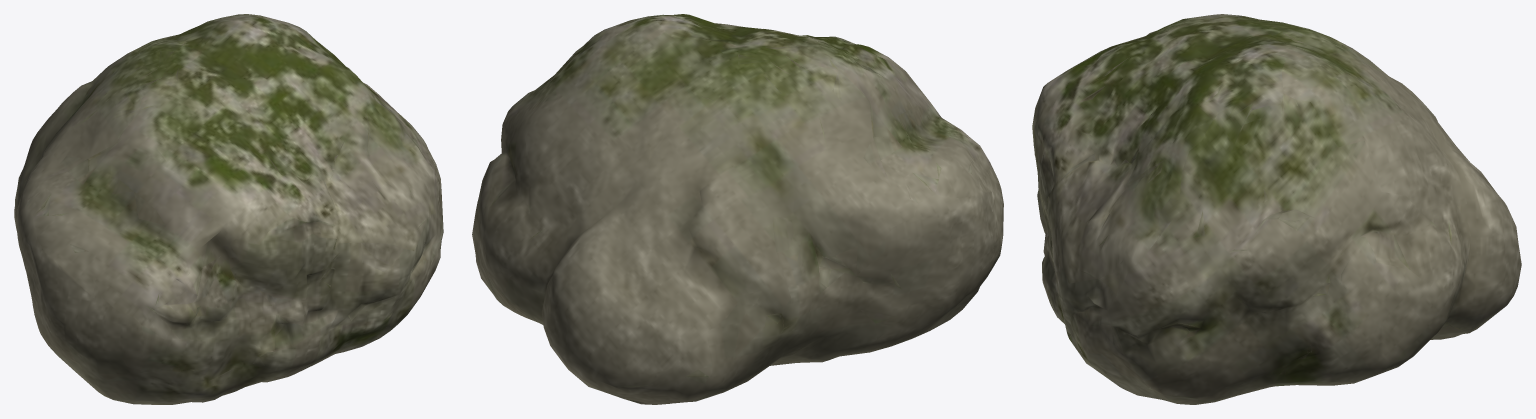
File: rescue-boulder.glb
3 renders of one model, left to right at view 1: azimuth 30°, elevation 25°; view 2: azimuth 150°, elevation 25°; view 3: azimuth 270°, elevation 25°, orthographic. The views are drawn at different scales.
Parts seen in each view (by area): view 1: Mesh_0; view 2: Mesh_0; view 3: Mesh_0.
Part boxes in pixels (x1,y1,x2,y2): Mesh_0: [14, 14, 443, 404]; Mesh_0: [472, 14, 1003, 404]; Mesh_0: [1032, 14, 1521, 404].
Size of the model in its own units: 1.9 by 1.33 by 1.84.
Materials: 1 (1 with a texture image).
